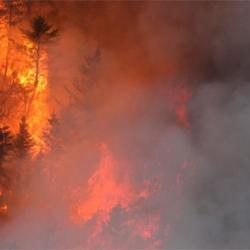fire: (0, 23, 48, 130)
